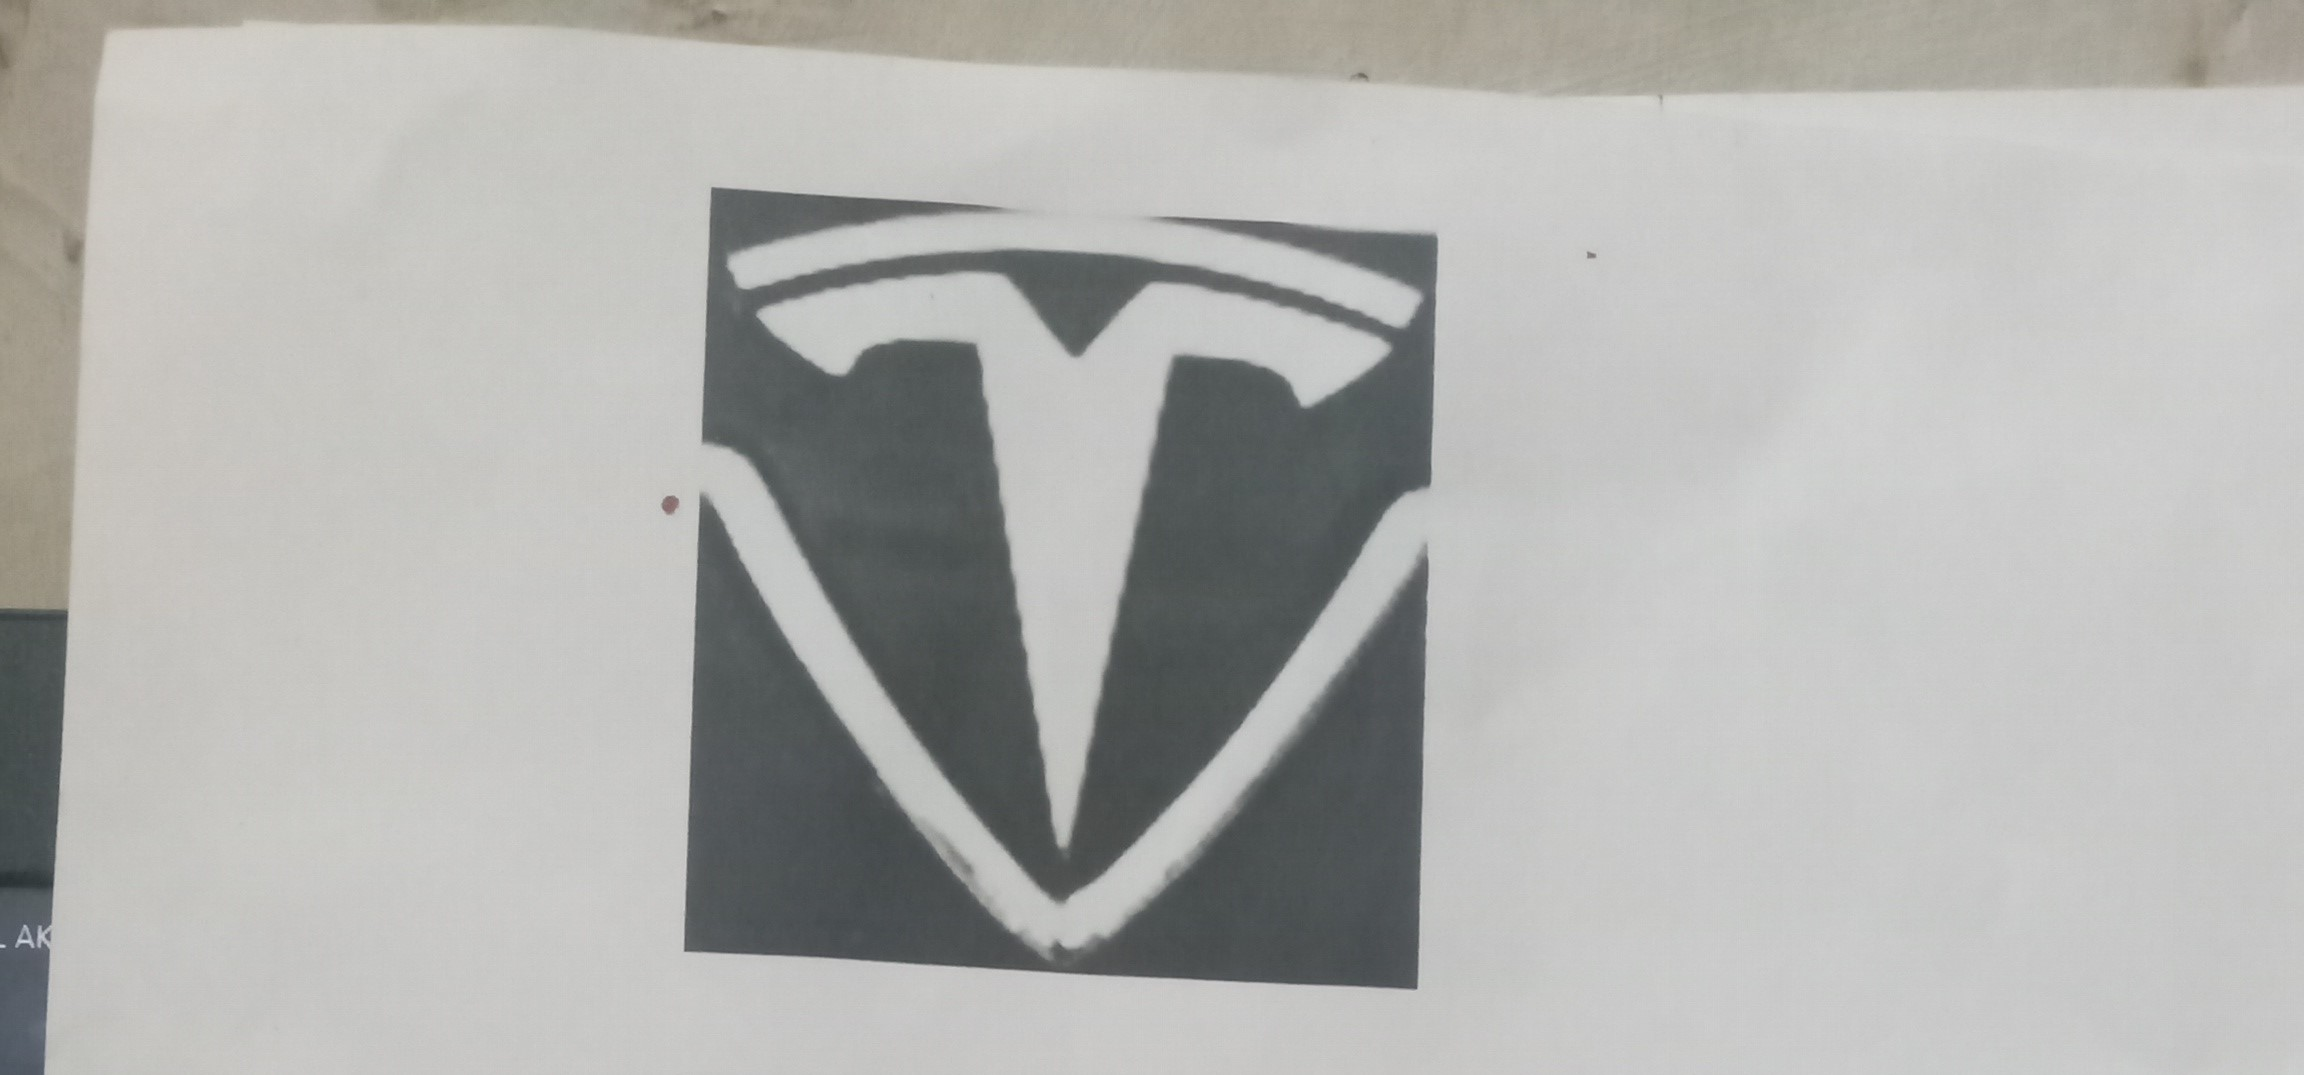Tesla: (698, 192, 1452, 972)
